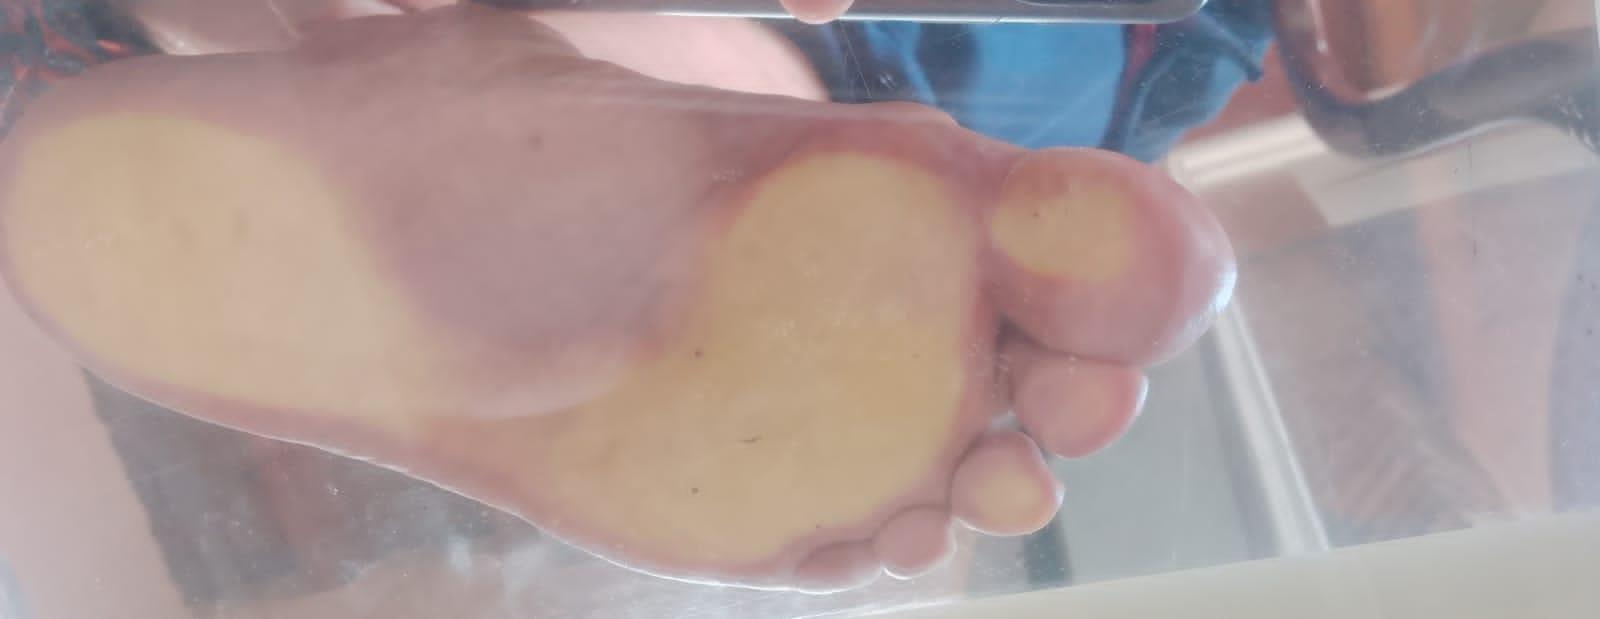Present: (0, 6, 1249, 601)
